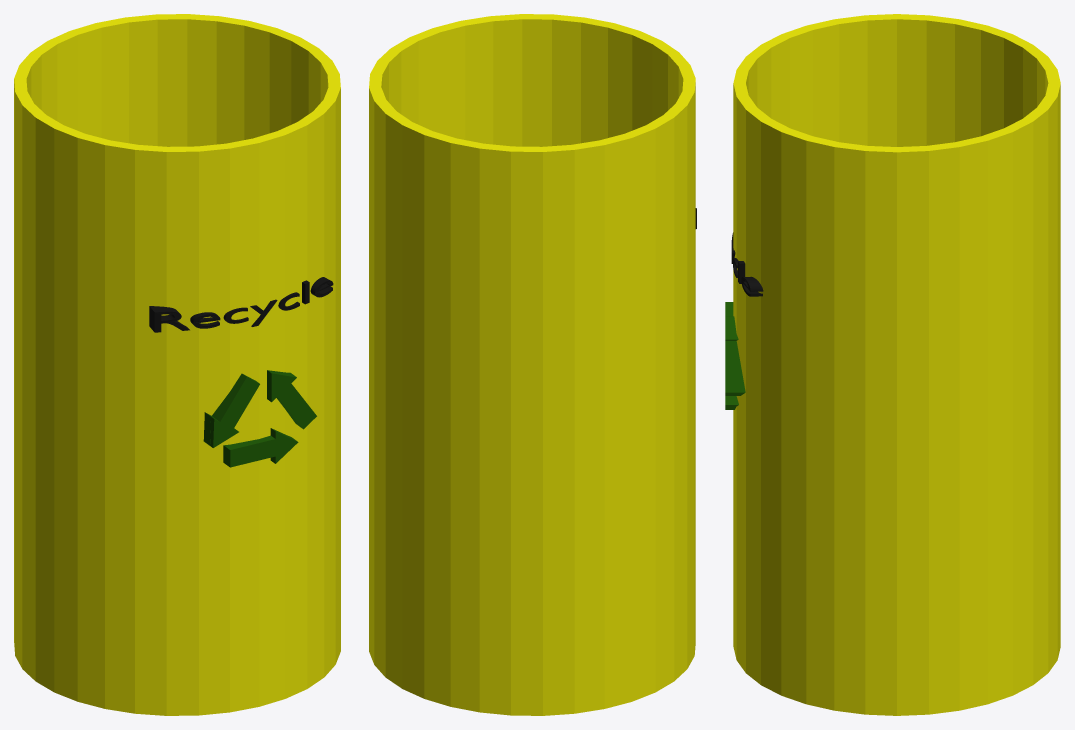
Rendered from bin.dae.
3 views of the same model, side by side, from view 1: azimuth 30°, elevation 25°; view 2: azimuth 150°, elevation 25°; view 3: azimuth 270°, elevation 25° (orthographic).
Visible parts, largest first — view 1: Circle, Plane.002, Text; view 2: Circle; view 3: Circle, Plane.002, Text.
Part boxes in pixels (<box>): Circle: <box>14,14,340,715</box>; Plane.002: <box>203,370,316,467</box>; Text: <box>149,277,333,332</box>; Circle: <box>369,14,695,715</box>; Circle: <box>733,14,1060,715</box>; Plane.002: <box>725,302,745,409</box>; Text: <box>731,232,763,296</box>.
Bounding box in the file's own units: 0.2632 × 0.2698 × 0.5.
